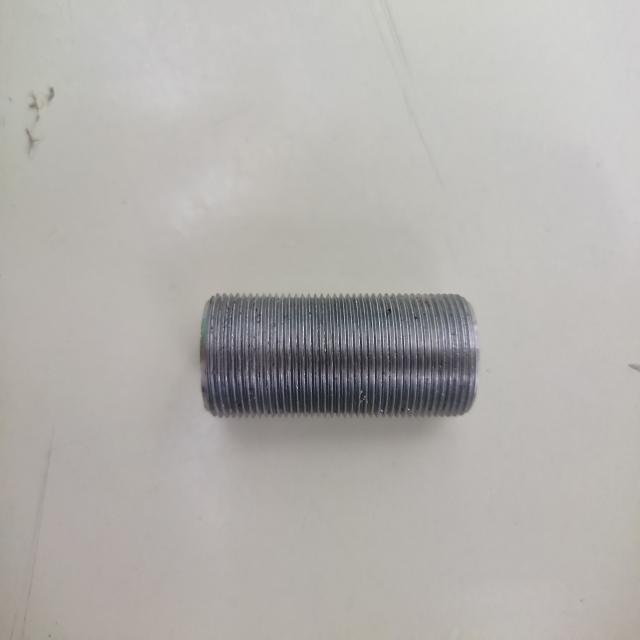Normal: (199, 290, 481, 420)
